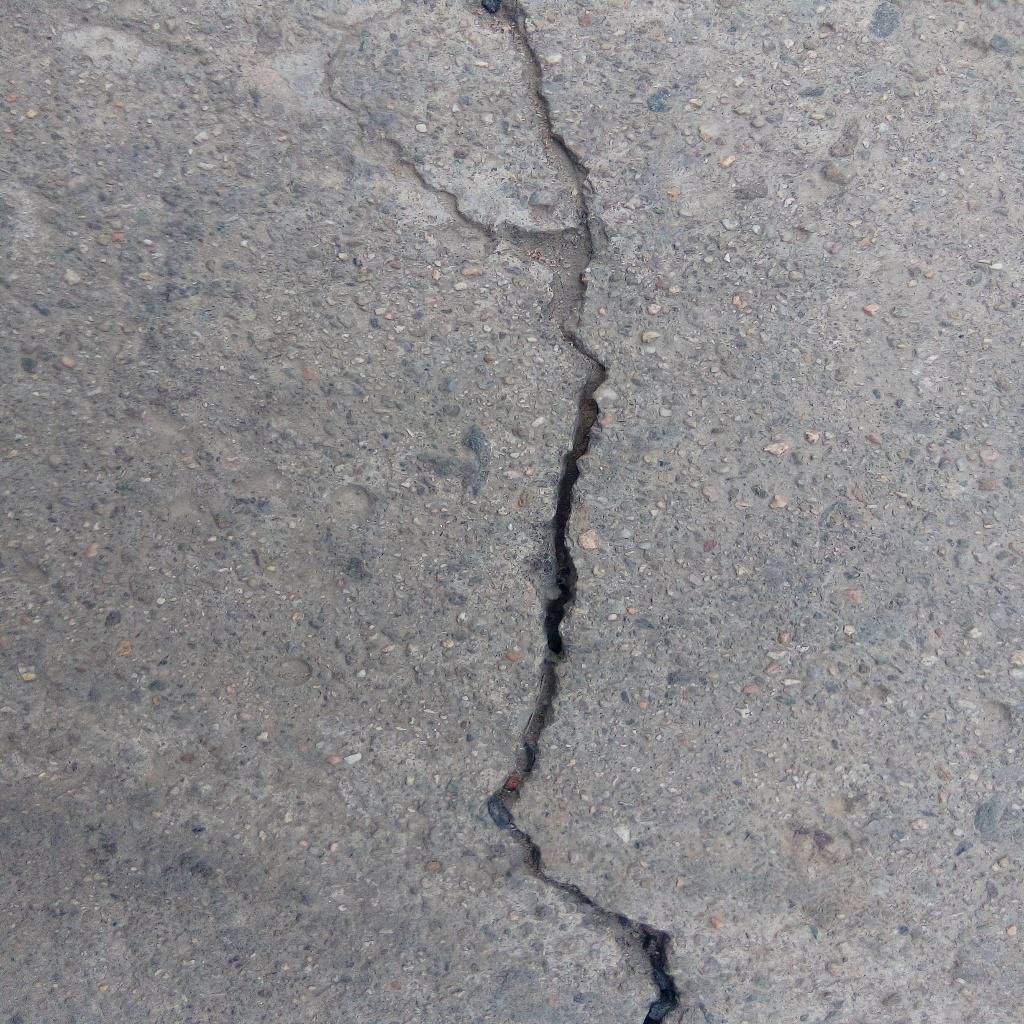Crack: (482, 1, 682, 1024), (327, 23, 492, 244)
